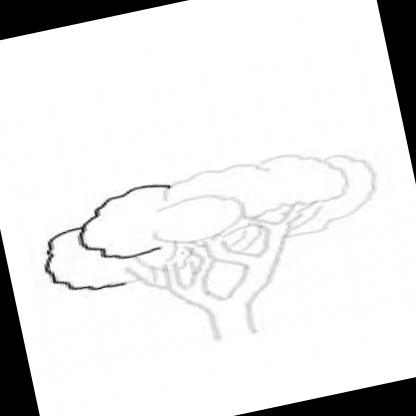trunk_straight: (206, 302, 262, 339)
